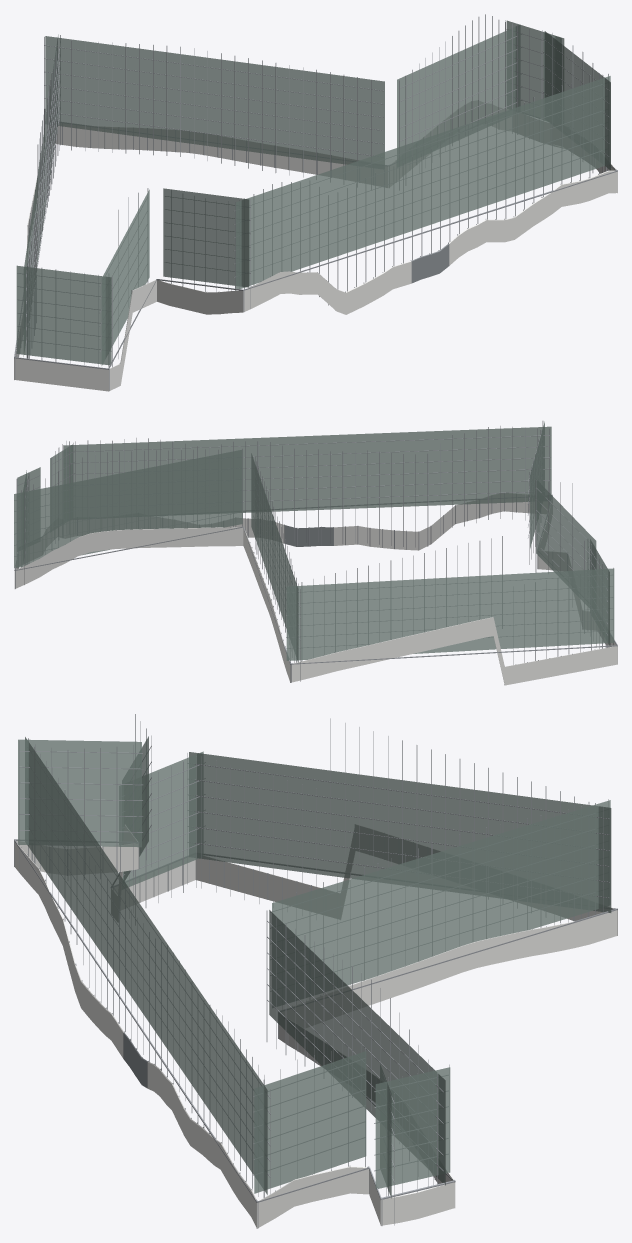
Rendered from d16-inferred-hoarding.glb.
The picture shows the model from 3 angles, top to bottom: view 1: azimuth 30°, elevation 25°; view 2: azimuth 150°, elevation 25°; view 3: azimuth 270°, elevation 25°; orthographic projection. The views are drawn at different scales.
Parts seen in each view (by area): view 1: INFERRED_upper_mesh_screen.001, INFERRED_hoarding_gate.001; view 2: INFERRED_upper_mesh_screen.001, INFERRED_hoarding_gate.001; view 3: INFERRED_upper_mesh_screen.001, INFERRED_hoarding_gate.001.
Part boxes in pixels (<box>): INFERRED_upper_mesh_screen.001: <box>16,20,610,365</box>; INFERRED_hoarding_gate.001: <box>14,14,617,391</box>; INFERRED_upper_mesh_screen.001: <box>14,421,614,662</box>; INFERRED_hoarding_gate.001: <box>14,421,617,685</box>; INFERRED_upper_mesh_screen.001: <box>18,736,611,1198</box>; INFERRED_hoarding_gate.001: <box>14,714,617,1228</box>.
Size of the model in its own units: 90.09 by 26.62 by 62.36.
Materials: 2 (1 with a texture image).
